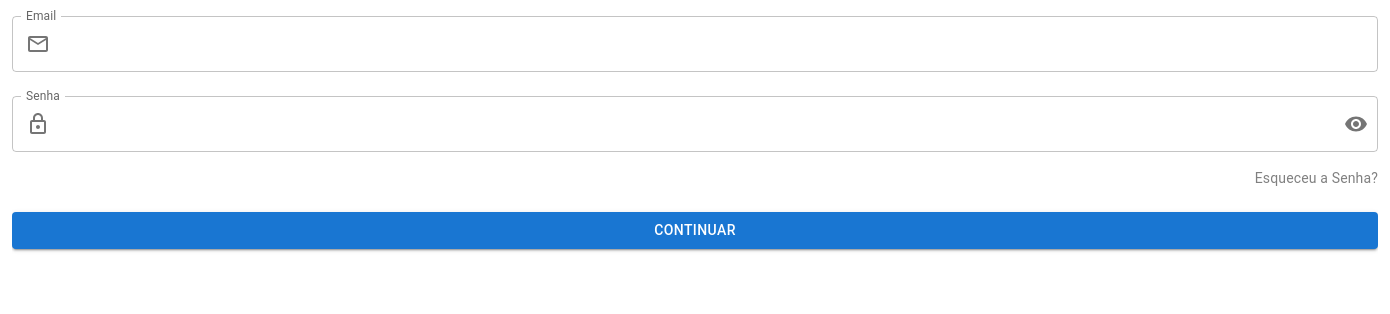
Test: LoginForm › rejects invalid email format
The width and height of the screenshot is (1390, 314).
Type "invalid" into the field labelled "Email" at {"x": 718, "y": 44}, box [58,16,1378,72]
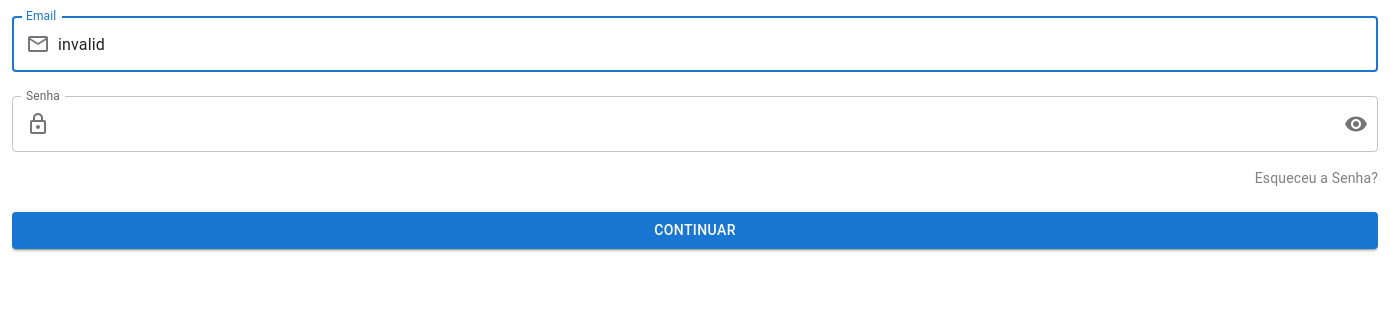
Click the button "CONTINUAR" at {"x": 695, "y": 230}, box [12,212,1378,248]
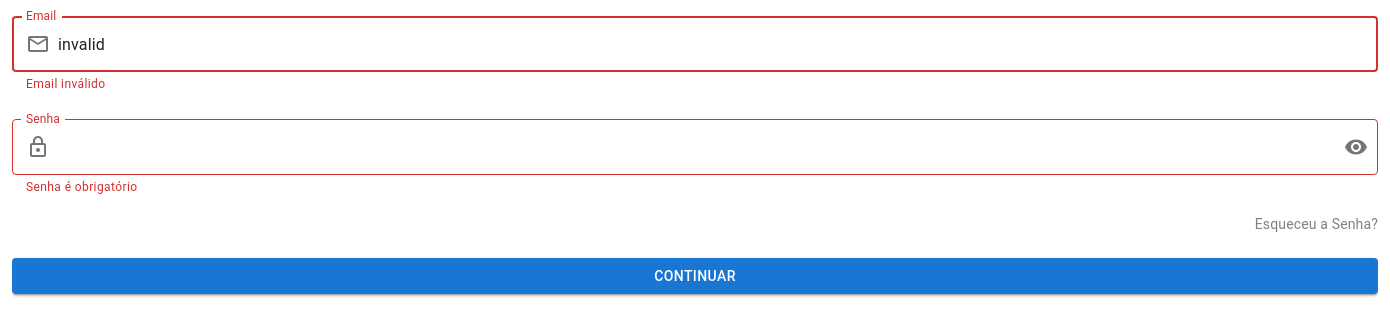
Expected: the text "Email inválido" is shown, [26,77,106,91]
